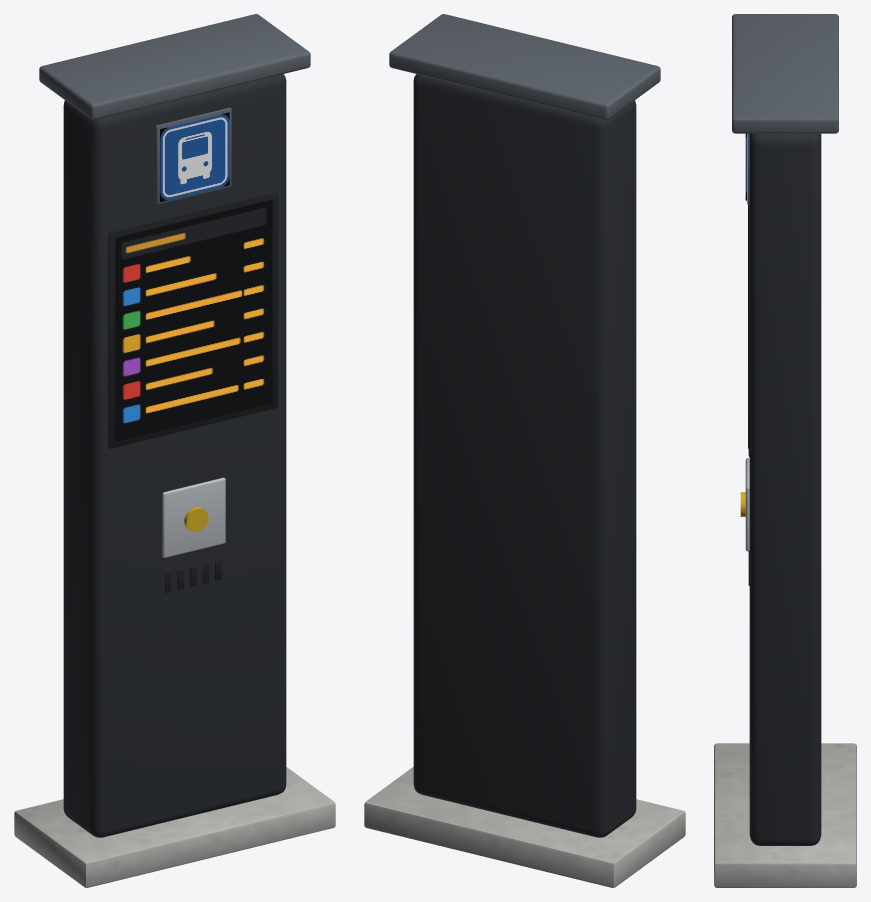
The model's file is digital-arrival-board.glb.
3 views of the same model, side by side, from view 1: azimuth 30°, elevation 25°; view 2: azimuth 150°, elevation 25°; view 3: azimuth 270°, elevation 25° (orthographic).
Visible parts, largest first — view 1: Digital_Arrival_Board; view 2: Digital_Arrival_Board; view 3: Digital_Arrival_Board.
Boxes of the visible parts, x1,y1,x2,y2 form: Digital_Arrival_Board: [14, 14, 335, 887]; Digital_Arrival_Board: [364, 14, 685, 887]; Digital_Arrival_Board: [714, 14, 856, 887].
Size of the model in its own units: 0.8 by 2.36 by 0.4.
Materials: 8 (3 with a texture image).
